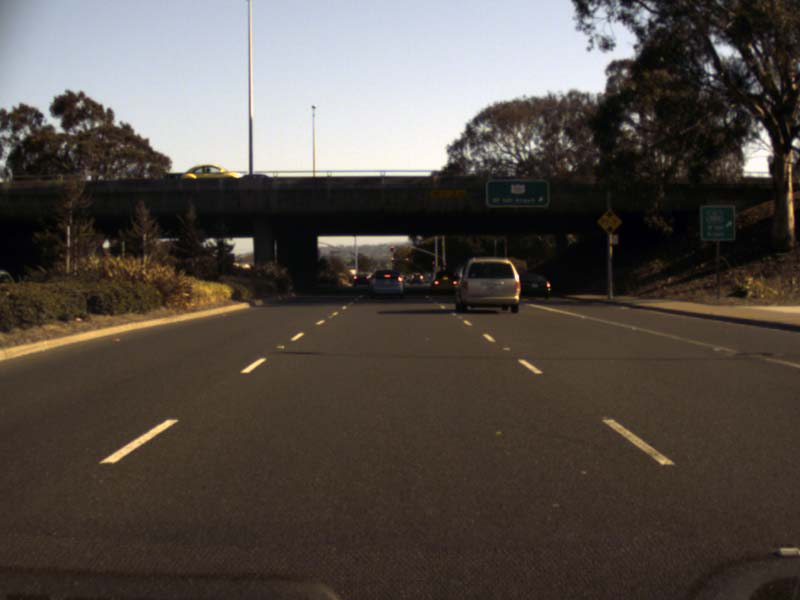Red: (390, 244, 393, 250)
